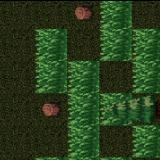Obstacle: (34, 92, 68, 125), (67, 0, 99, 28), (133, 92, 160, 124)
Slow: (68, 61, 99, 160), (35, 28, 67, 92), (99, 0, 132, 60), (132, 28, 160, 92), (99, 92, 133, 125), (132, 124, 160, 156)
